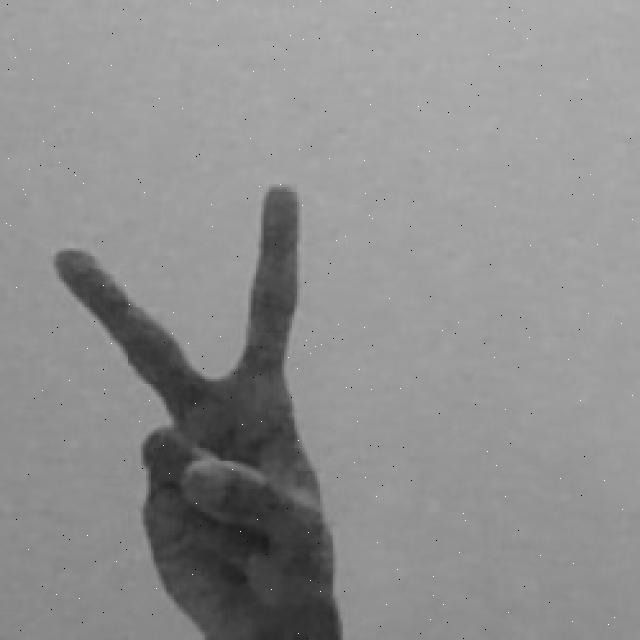V: (51, 178, 347, 640)
